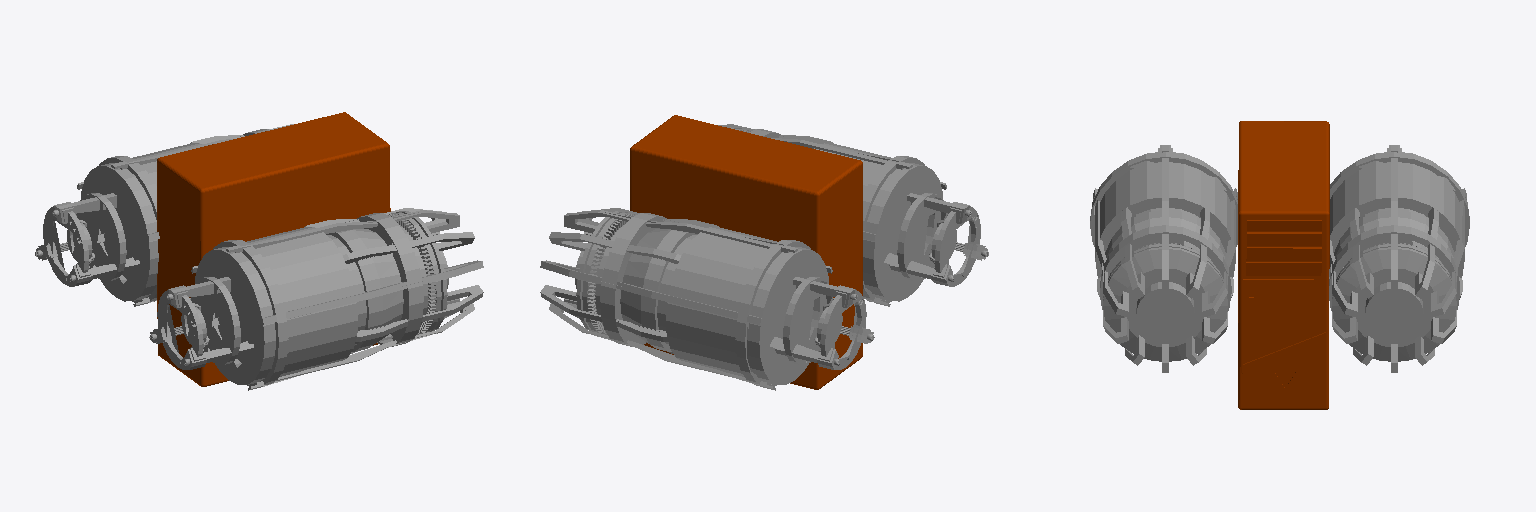
File: pcfusee.obj
The picture shows the model from 3 angles: view 1: azimuth 30°, elevation 25°; view 2: azimuth 150°, elevation 25°; view 3: azimuth 270°, elevation 25°; orthographic projection.
Visible parts, largest first — view 1: arc_reactor.lwo.001; view 2: arc_reactor.lwo.001; view 3: arc_reactor.lwo.001.
Part boxes in pixels (x1,y1,x2,y2): arc_reactor.lwo.001: (35,112,483,390); arc_reactor.lwo.001: (540,115,988,390); arc_reactor.lwo.001: (1090,121,1469,409).
Bounding box in the file's own units: 3.1 × 2.02 × 3.5.